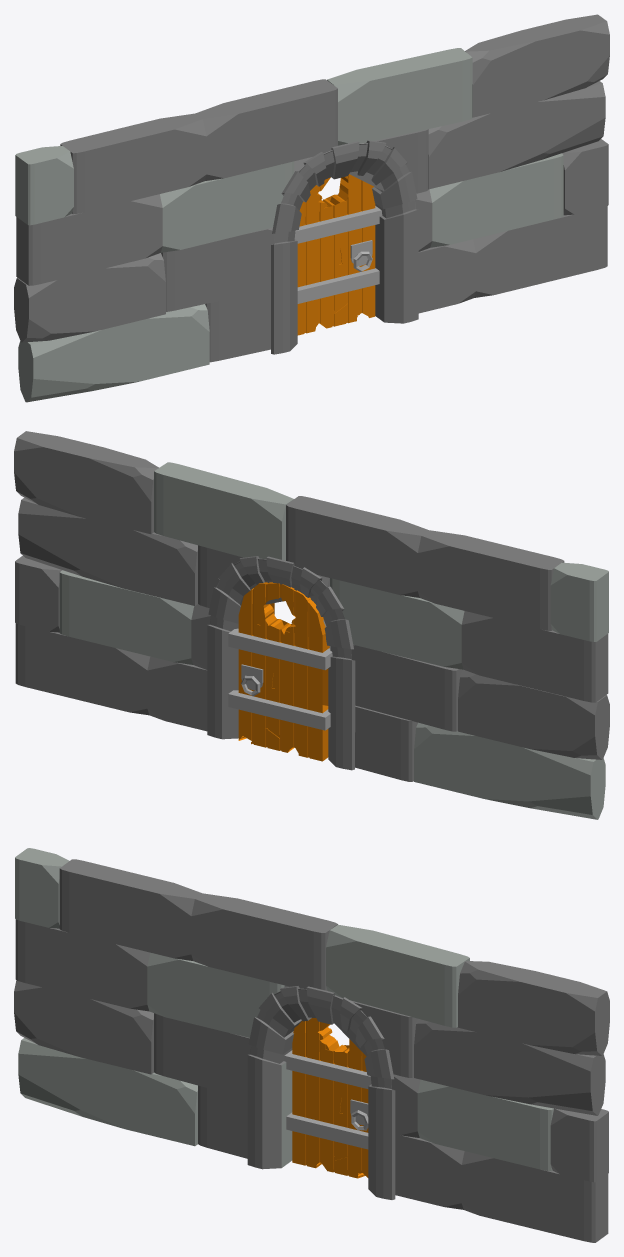
Rendered from walls_001.glb.
3 views of the same model, one above another, from view 1: azimuth 30°, elevation 25°; view 2: azimuth 150°, elevation 25°; view 3: azimuth 330°, elevation 25° (orthographic).
Visible parts, largest first — view 1: walls_001; view 2: walls_001; view 3: walls_001.
Part boxes in pixels (<box>): walls_001: <box>14,14,609,402</box>; walls_001: <box>14,431,609,819</box>; walls_001: <box>14,848,609,1242</box>.
Bounding box in the file's own units: 264 × 106 × 21.43.
